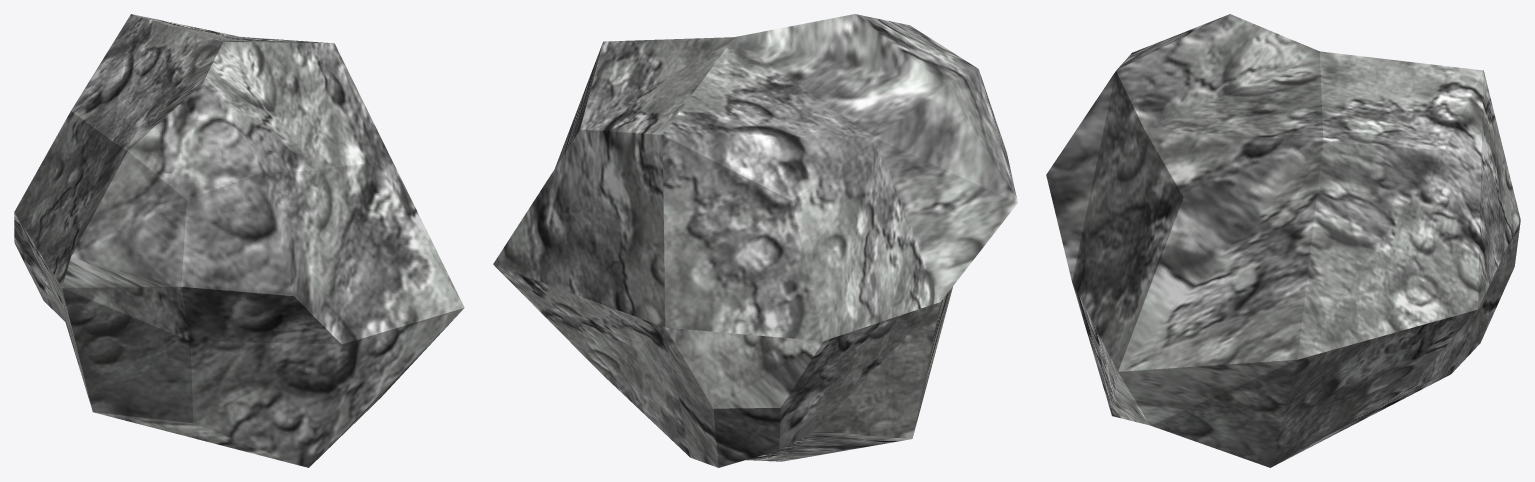
The model's file is AsteroidShatter.fbx.
The picture shows the model from 3 angles, left to right: view 1: azimuth 30°, elevation 25°; view 2: azimuth 150°, elevation 25°; view 3: azimuth 270°, elevation 25°; orthographic projection. The views are drawn at different scales.
Visible parts, largest first — view 1: AsteroidShard_6, AsteroidShard_1, AsteroidShard_7, AsteroidShard_2, AsteroidShard_3; view 2: AsteroidShard_5, AsteroidShard_2, AsteroidShard_3, AsteroidShard_4, AsteroidShard_6, AsteroidShard_1; view 3: AsteroidShard_7, AsteroidShard_5, AsteroidShard_6, AsteroidShard_1, AsteroidShard_2, AsteroidShard_4.
Boxes of the visible parts, x1,y1,x2,y2 form: AsteroidShard_6: (62, 42, 341, 344); AsteroidShard_1: (62, 288, 463, 467); AsteroidShard_7: (223, 42, 464, 344); AsteroidShard_2: (71, 14, 332, 255); AsteroidShard_3: (14, 111, 111, 409); AsteroidShard_5: (493, 43, 823, 456); AsteroidShard_2: (580, 14, 1017, 301); AsteroidShard_3: (779, 139, 940, 449); AsteroidShard_4: (665, 327, 911, 467); AsteroidShard_6: (855, 14, 1017, 202); AsteroidShard_1: (913, 286, 952, 436); AsteroidShard_7: (1072, 51, 1323, 371); AsteroidShard_5: (1270, 71, 1520, 467); AsteroidShard_6: (1046, 14, 1319, 280); AsteroidShard_1: (1072, 283, 1297, 467); AsteroidShard_2: (1320, 51, 1483, 150); AsteroidShard_4: (1273, 221, 1520, 466).
Bounding box in the file's own units: 1.77 × 1.71 × 1.8.
